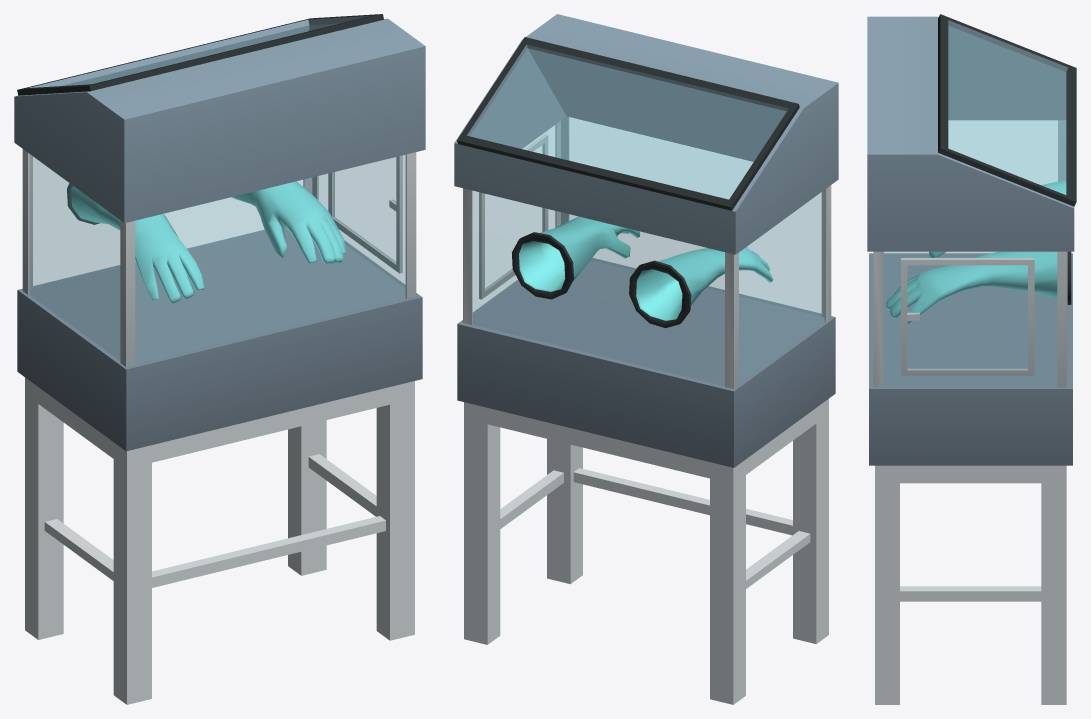
Rendered from Glovebox.fbx.
The picture shows the model from 3 angles, left to right: view 1: azimuth 30°, elevation 25°; view 2: azimuth 150°, elevation 25°; view 3: azimuth 270°, elevation 25°; orthographic projection. The views are drawn at different scales.
Visible parts, largest first — view 1: polySurface13; view 2: polySurface13; view 3: polySurface13.
Boxes of the visible parts, left/top/right/bottom form: polySurface13: left=14, top=14, right=425, bottom=704; polySurface13: left=454, top=14, right=838, bottom=704; polySurface13: left=867, top=14, right=1076, bottom=704.
Bounding box in the file's own units: 0.7889 × 1.49 × 0.5053.
2 materials, 1 textured.
